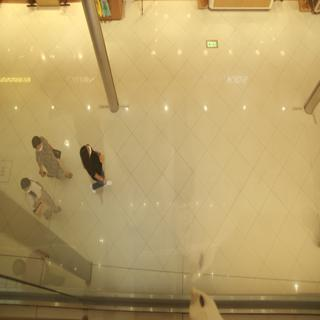person: (74, 138, 118, 203), (12, 177, 66, 227), (27, 130, 70, 187)
